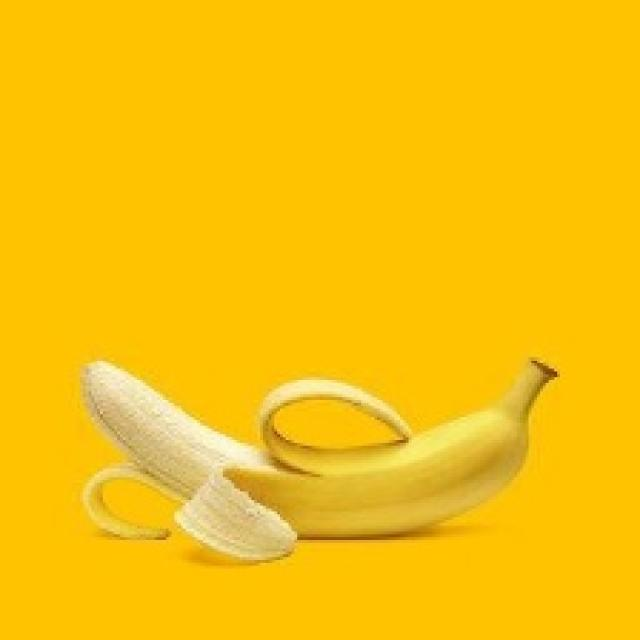Banana: (77, 351, 557, 560)
